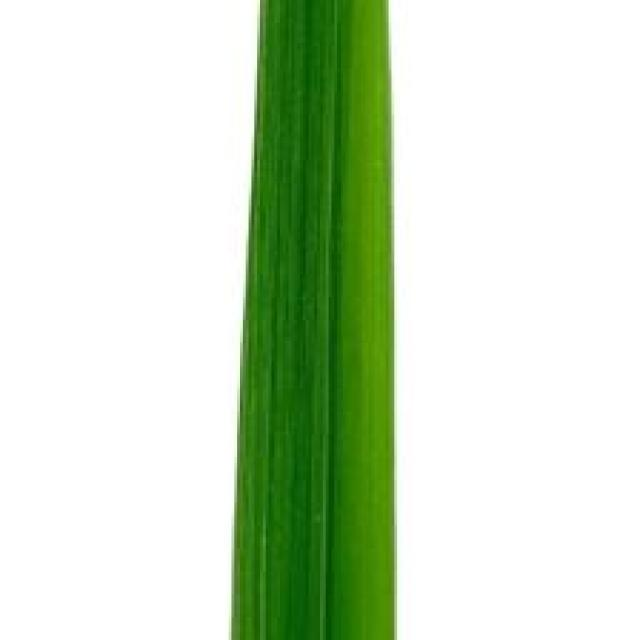Rice___Healthy_Rice_Plant: (230, 0, 398, 637)
